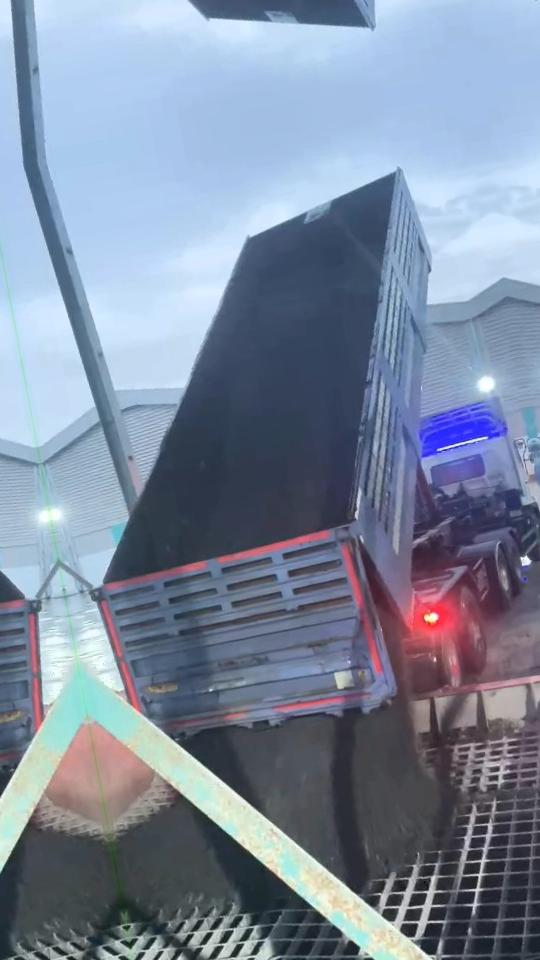gravel: (185, 711, 440, 890), (225, 284, 369, 536), (117, 796, 292, 916)
